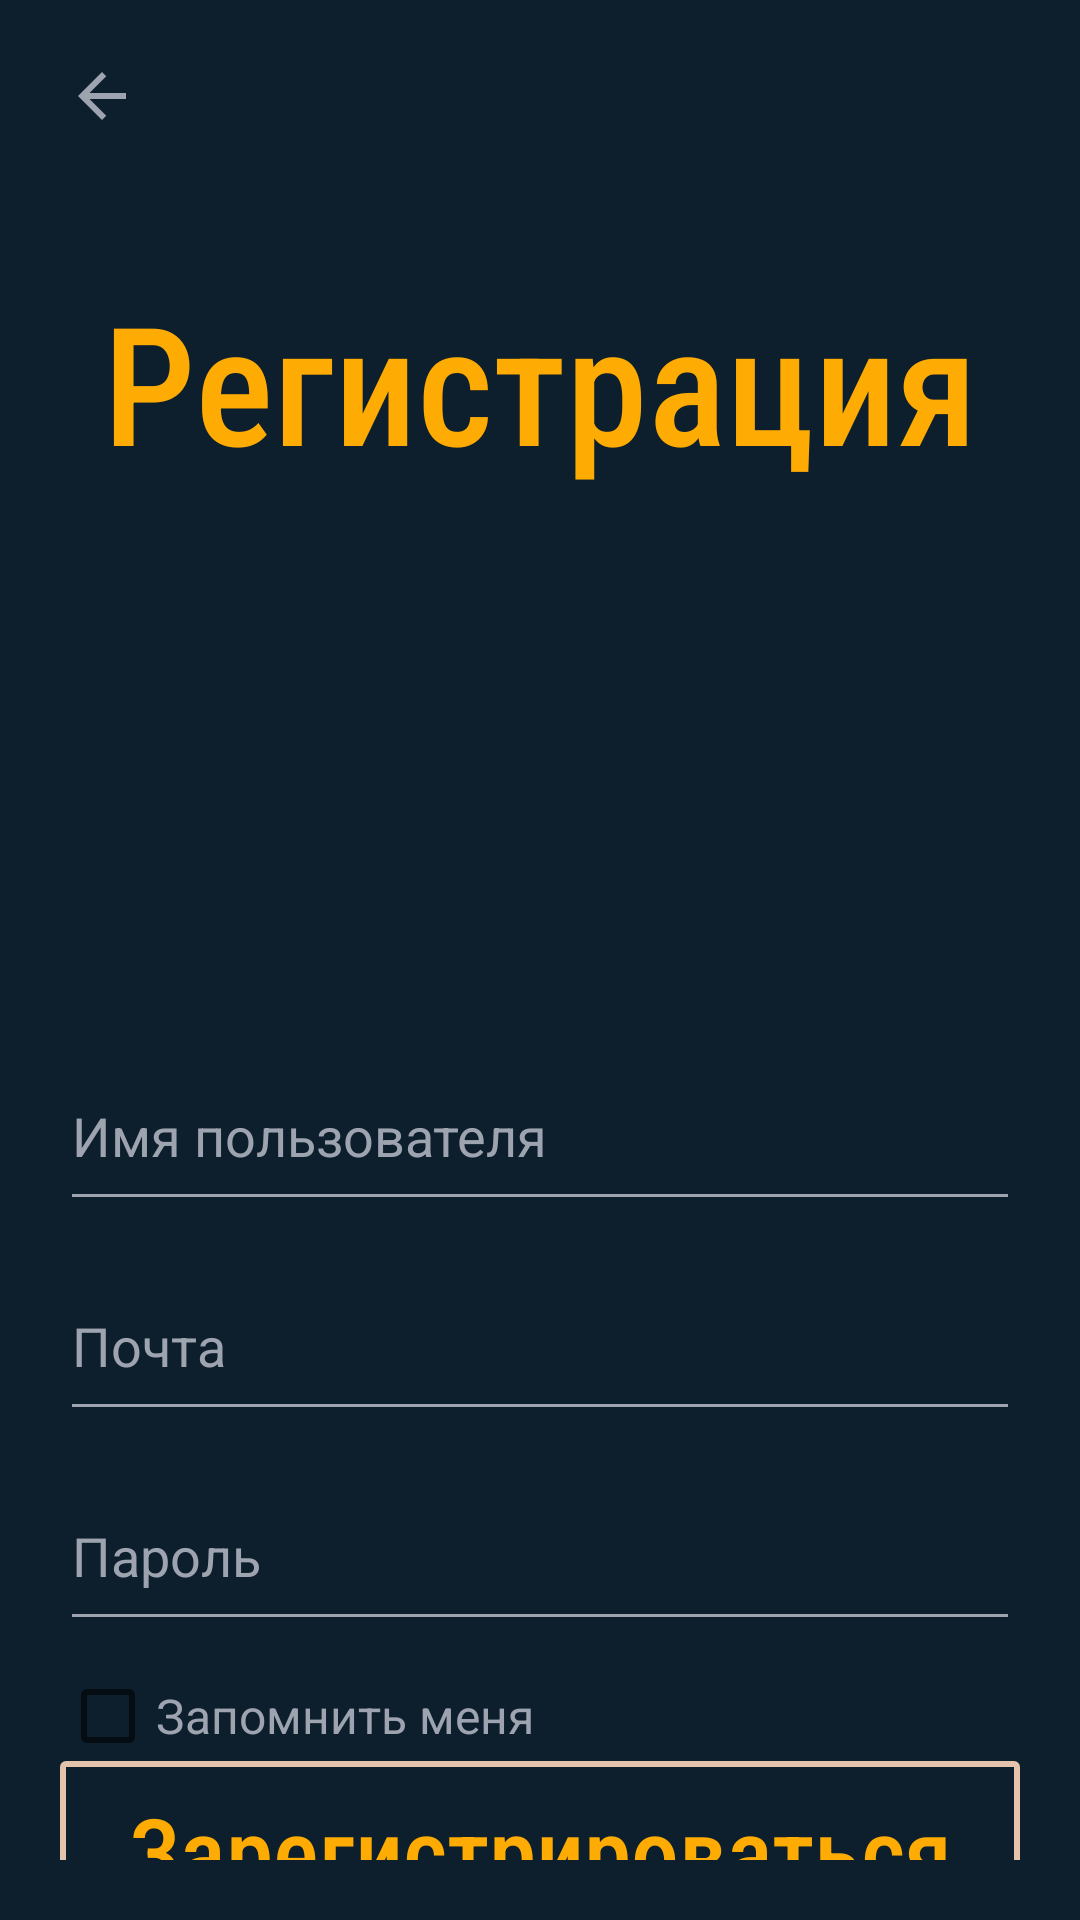

Icons on this 1080px x 1920px Android screen, each with the point to tap as point (x, y):
arrow back hovered: point (102, 96)
